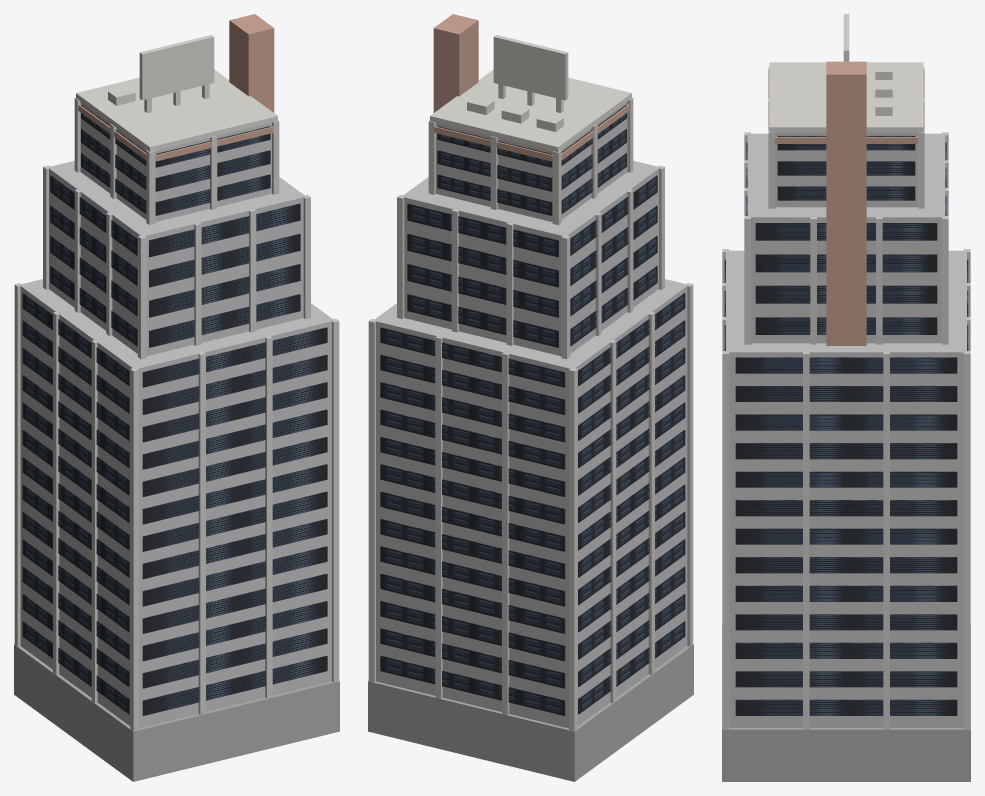
Rendered from skyline-tower-slim-billboard.glb.
3 views of the same model, side by side, from view 1: azimuth 30°, elevation 25°; view 2: azimuth 150°, elevation 25°; view 3: azimuth 270°, elevation 25° (orthographic). The views are drawn at different scales.
Parts seen in each view (by area): view 1: windows, body-1, pilasters, podium, body-2, parapet, body-3, roof-detail, core, crown-band; view 2: windows, body-1, pilasters, podium, body-2, parapet, body-3, roof-detail, core, crown-band; view 3: windows, body-1, pilasters, body-2, podium, core, parapet, body-3, roof-detail, crown-band.
Boxes of the visible parts, box(x1,y1,x2,y2) form: windows: box(22, 105, 327, 715); body-1: box(19, 279, 334, 728); pilasters: box(14, 97, 339, 731); podium: box(14, 644, 339, 781); body-2: box(48, 160, 305, 356); parapet: box(76, 69, 277, 151); body-3: box(80, 102, 271, 221); roof-detail: box(108, 35, 214, 112); core: box(229, 14, 274, 112); crown-band: box(78, 104, 273, 161); windows: box(380, 105, 685, 715); body-1: box(373, 279, 688, 728); pilasters: box(368, 97, 693, 731); podium: box(368, 644, 693, 781); body-2: box(402, 160, 659, 356); parapet: box(430, 69, 631, 151); body-3: box(436, 102, 627, 221); roof-detail: box(467, 35, 568, 131); core: box(433, 14, 478, 112); crown-band: box(434, 104, 629, 161); windows: box(724, 136, 968, 715); body-1: box(726, 250, 966, 727); pilasters: box(722, 67, 970, 729); body-2: box(747, 133, 945, 343); podium: box(722, 624, 970, 781); core: box(826, 61, 866, 345); parapet: box(769, 62, 923, 132); body-3: box(775, 132, 917, 207); roof-detail: box(843, 14, 892, 115); crown-band: box(768, 75, 924, 143).
Size of the model in its own units: 25.8 by 80 by 25.8.
Materials: 6 (1 with a texture image).
